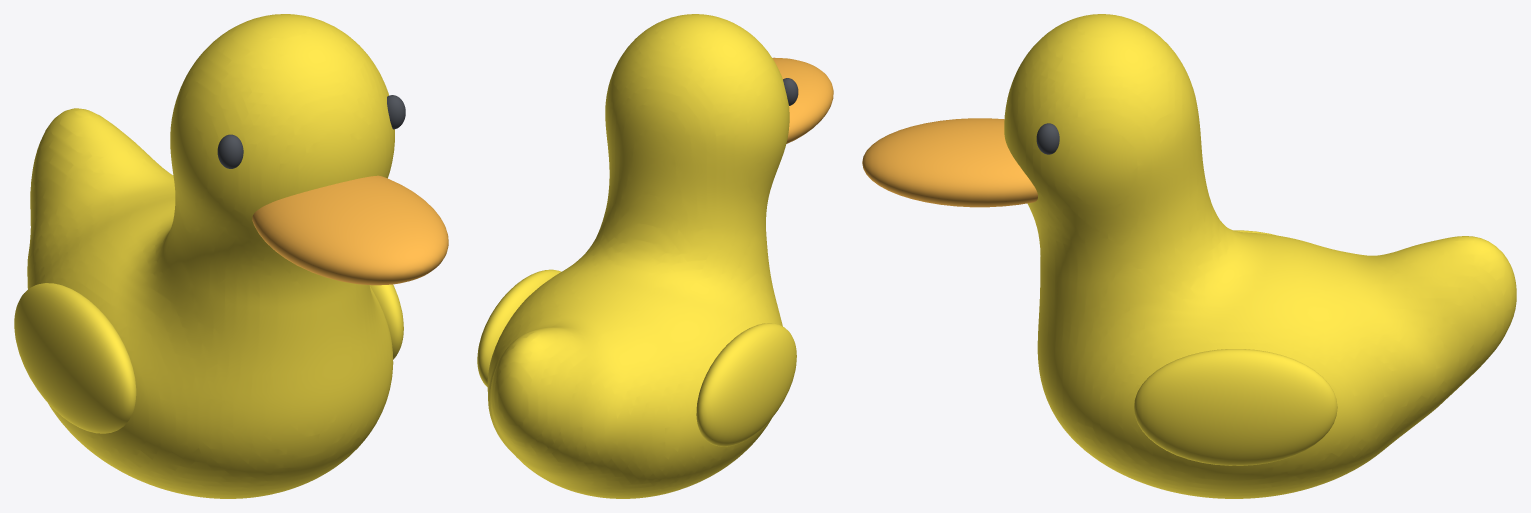
Rendered from duck_03_long_beak.glb.
3 views of the same model, side by side, from view 1: azimuth 30°, elevation 25°; view 2: azimuth 150°, elevation 25°; view 3: azimuth 270°, elevation 25° (orthographic). The views are drawn at different scales.
Visible parts, largest first — view 1: Body, Beak, Wing_Left, Wing_Right, Eye_Left, Eye_Right; view 2: Body, Wing_Left, Beak, Wing_Right; view 3: Body, Wing_Right, Beak.
Part boxes in pixels (x1,y1,x2,y2): Body: (27, 14, 394, 498); Beak: (252, 175, 448, 285); Wing_Left: (14, 283, 136, 433); Wing_Right: (369, 284, 403, 359); Eye_Left: (217, 134, 243, 168); Eye_Right: (387, 95, 405, 129); Body: (487, 14, 789, 498); Wing_Left: (696, 323, 796, 446); Beak: (772, 57, 833, 143); Wing_Right: (477, 269, 561, 386); Body: (1004, 14, 1516, 498); Wing_Right: (1134, 349, 1337, 465); Beak: (862, 118, 1037, 207).
Bounding box in the file's own units: 0.9 × 1.36 × 1.76.
